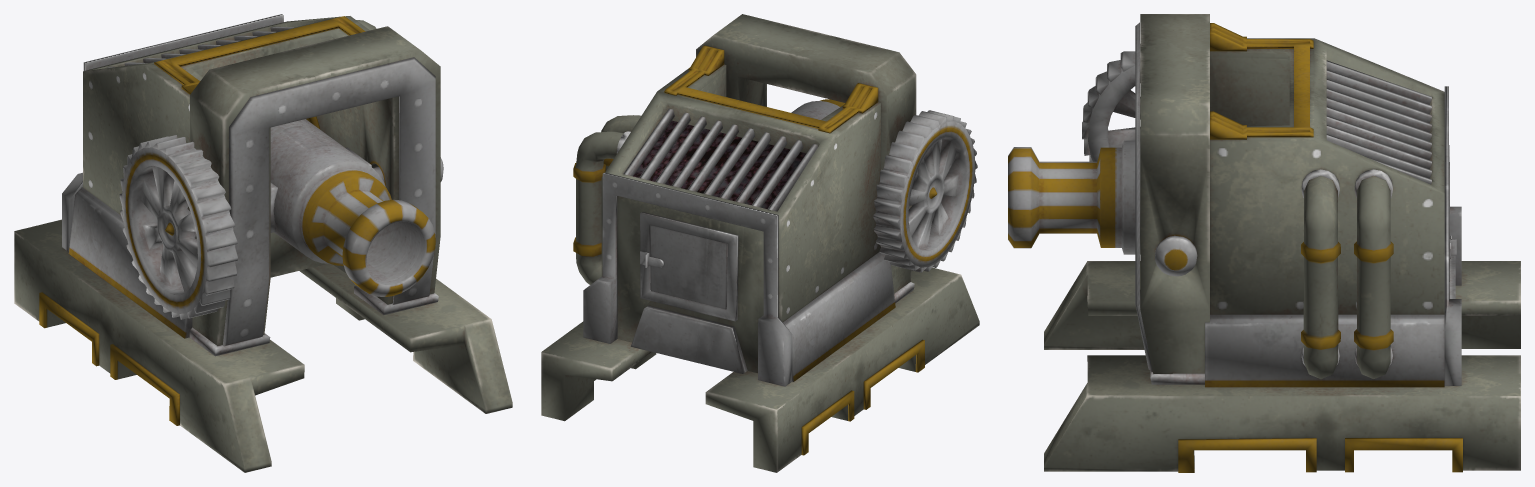
The model's file is stoneThrower.glb.
3 views of the same model, side by side, from view 1: azimuth 30°, elevation 25°; view 2: azimuth 150°, elevation 25°; view 3: azimuth 270°, elevation 25° (orthographic). The views are drawn at different scales.
Visible parts, largest first — view 1: StoneThrower_L3; view 2: StoneThrower_L3; view 3: StoneThrower_L3.
Boxes of the visible parts, x1,y1,x2,y2 form: StoneThrower_L3: [14, 14, 512, 472]; StoneThrower_L3: [541, 14, 979, 472]; StoneThrower_L3: [1008, 14, 1520, 472].
Size of the model in its own units: 7.75 by 7.79 by 10.5.
1 material, 1 textured.
